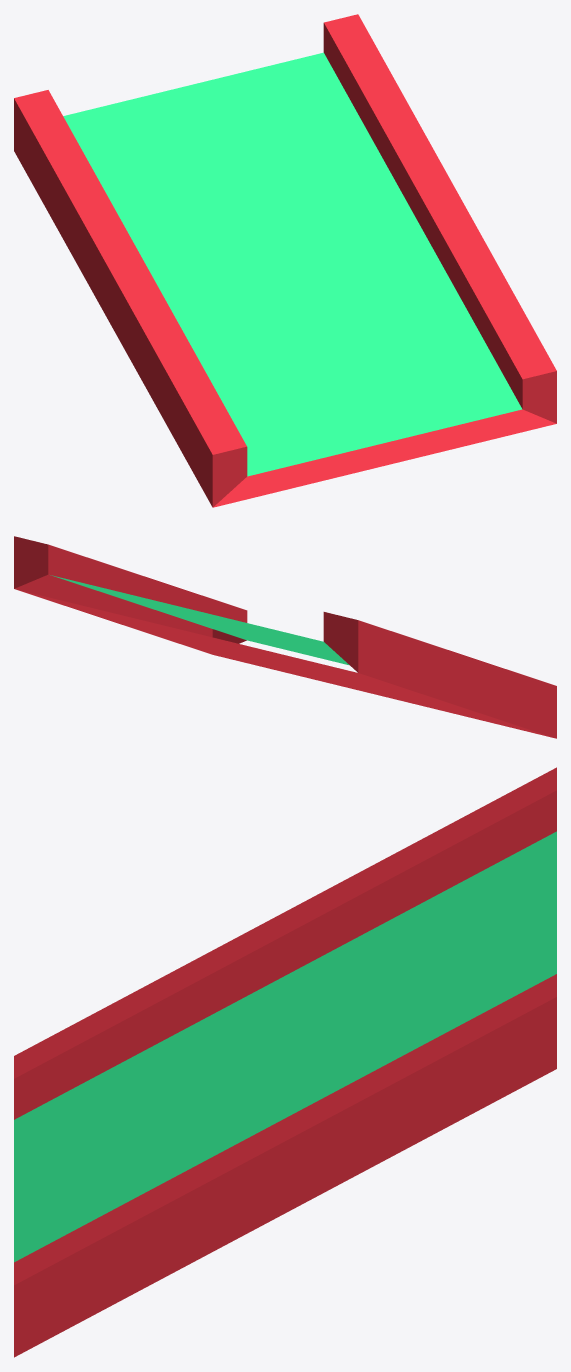
Rendered from rampD.fbx.
3 views of the same model, one above another, from view 1: azimuth 30°, elevation 25°; view 2: azimuth 150°, elevation 25°; view 3: azimuth 270°, elevation 25° (orthographic). The views are drawn at different scales.
Parts seen in each view (by area): view 1: rampD; view 2: rampD; view 3: rampD.
Part boxes in pixels (left/top/right/bottom): rampD: left=14, top=14, right=556, bottom=507; rampD: left=14, top=536, right=556, bottom=738; rampD: left=14, top=767, right=556, bottom=1357.
Size of the model in its own units: 99.99 by 99.99 by 73.33.
